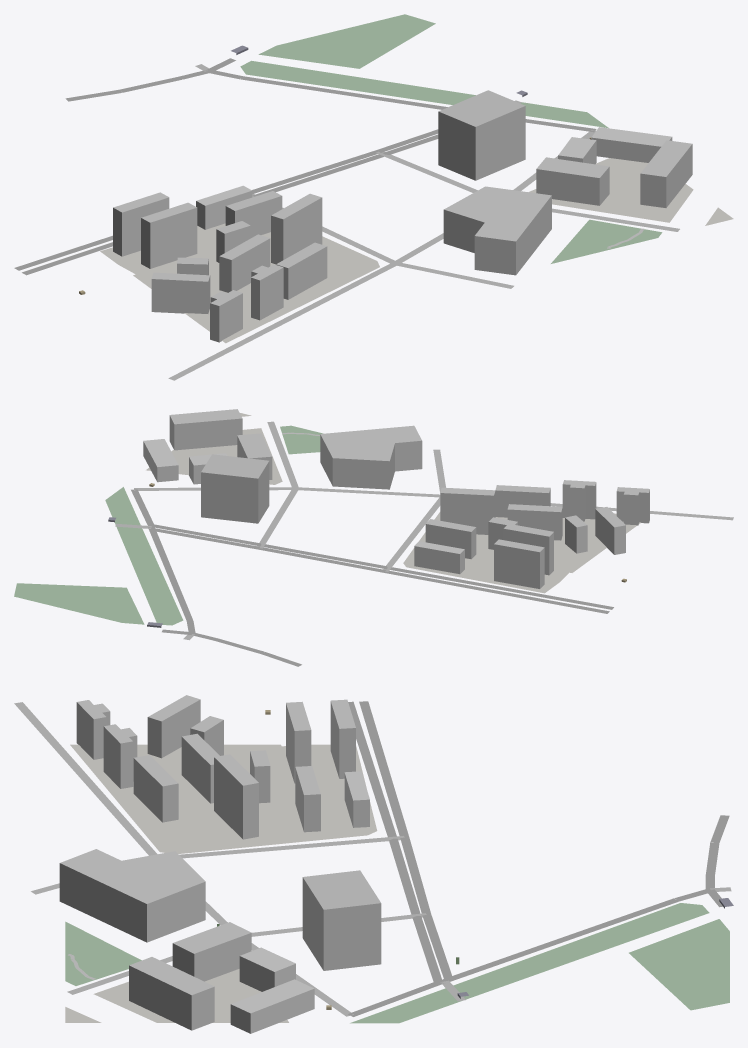
3 renders of one model, top to bottom at view 1: azimuth 30°, elevation 25°; view 2: azimuth 150°, elevation 25°; view 3: azimuth 270°, elevation 25°, orthographic. The views are drawn at different scales.
Bounding box in the file's own units: 599 × 53.37 × 542.
